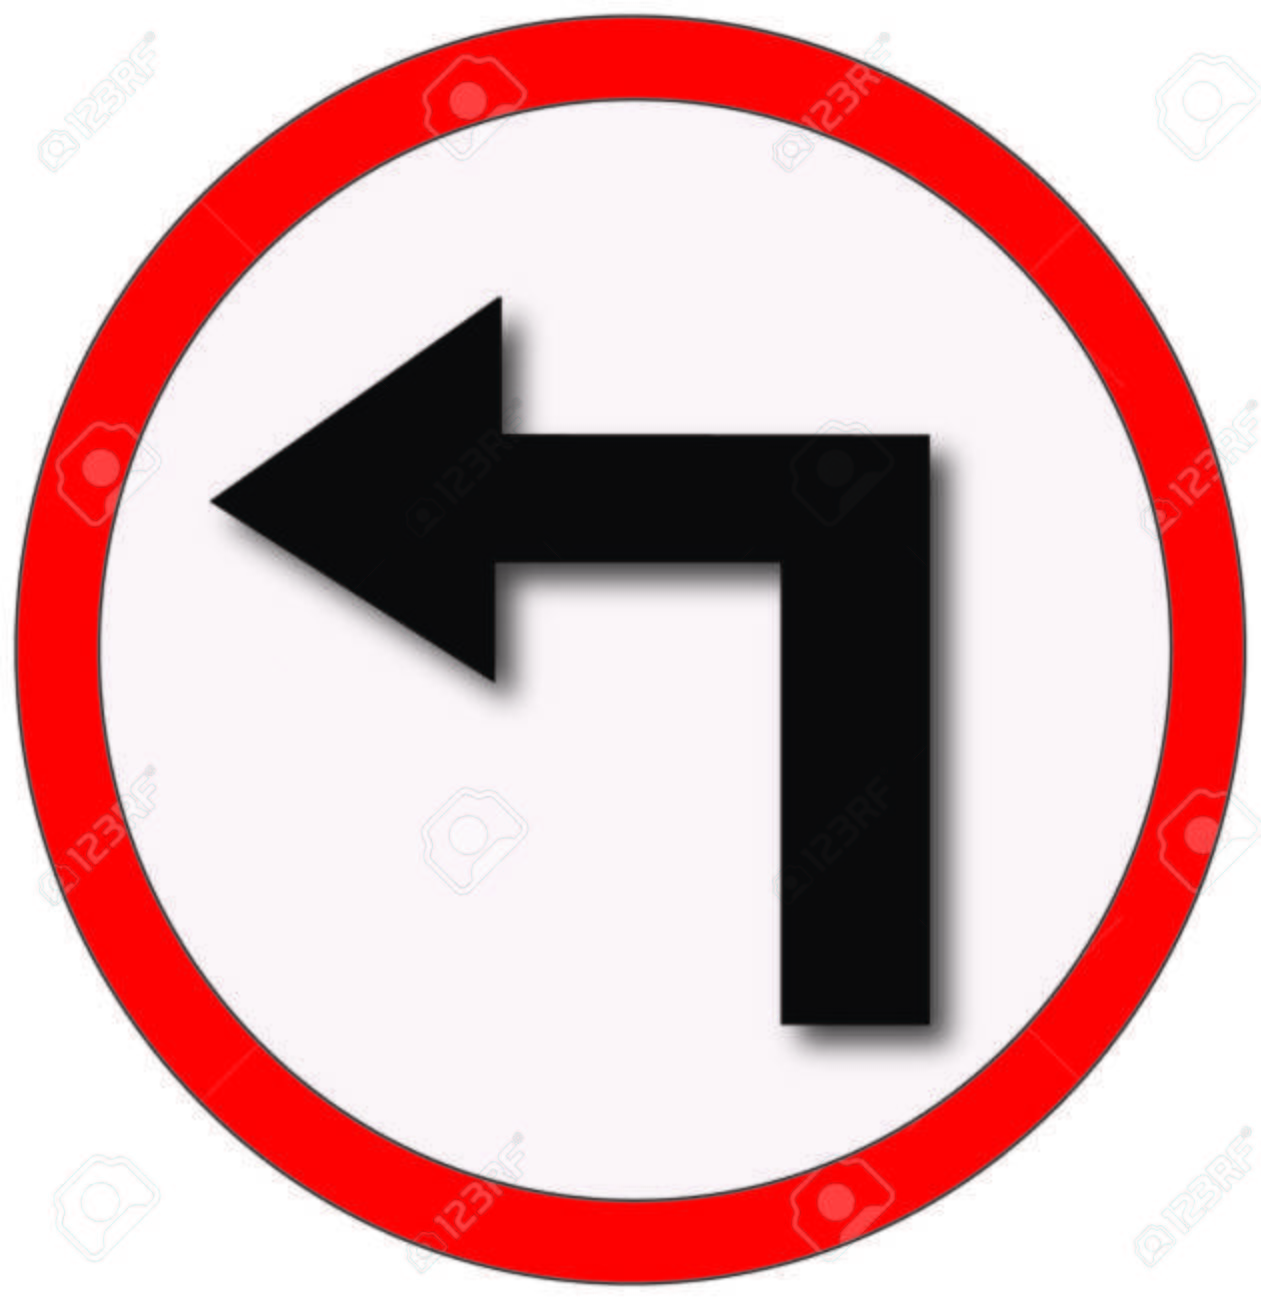left: (5, 9, 1254, 1290)
